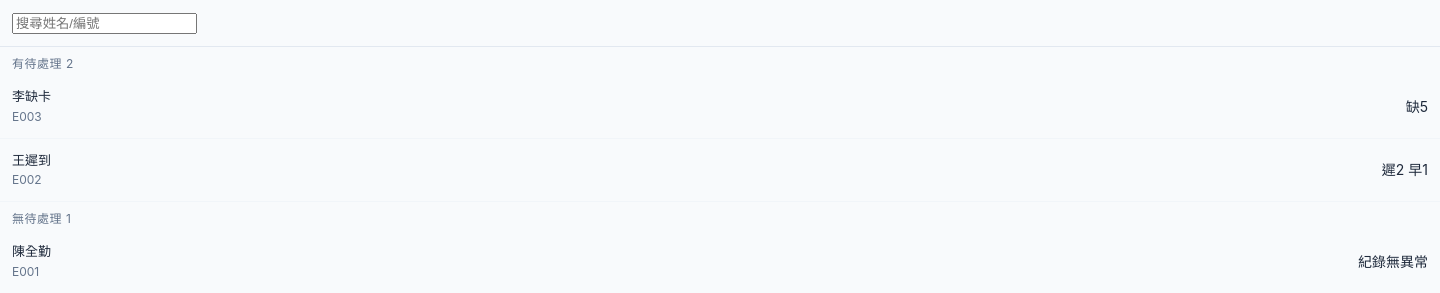
Test: RosterColumn › filters by employee_number
Type "E001" into the field with placeholder "搜尋姓名/編號".
click(104, 24); type("E001")  # box [12,13,197,34]
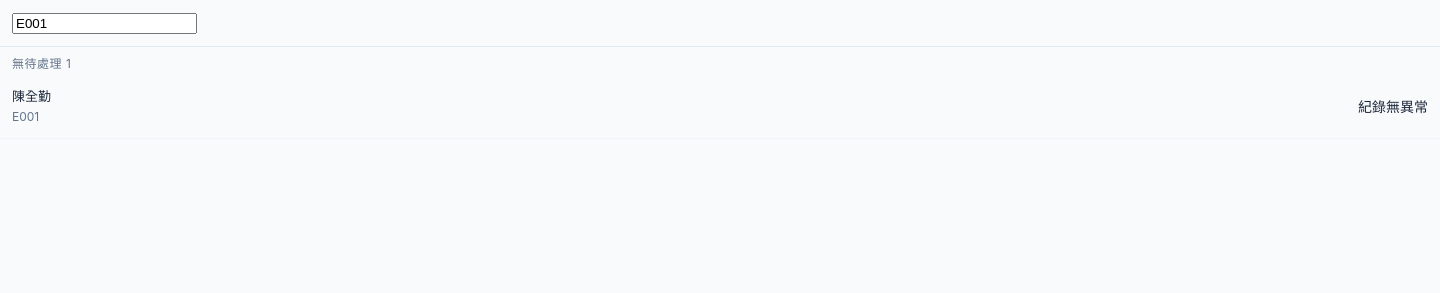
Check: the option with class "roster-item" shows "陳全勤", box [0,75,1439,138]
Check: the number of options with class "roster-item" is 1, box [0,75,1439,138]
